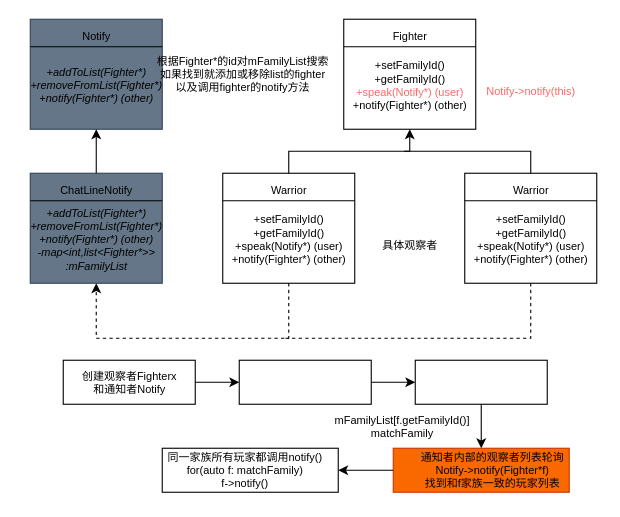
This 620x517 diagram has some shape labels left out. The centre of each missing label's shape, as x and y in pixels:
"Notify.addToList(Fighterx) 通知者添加观察者到列表维护" goes at (x=304, y=381).
"玩家发布消息 Fighterx->speak(Notify*)" goes at (x=480, y=381).
